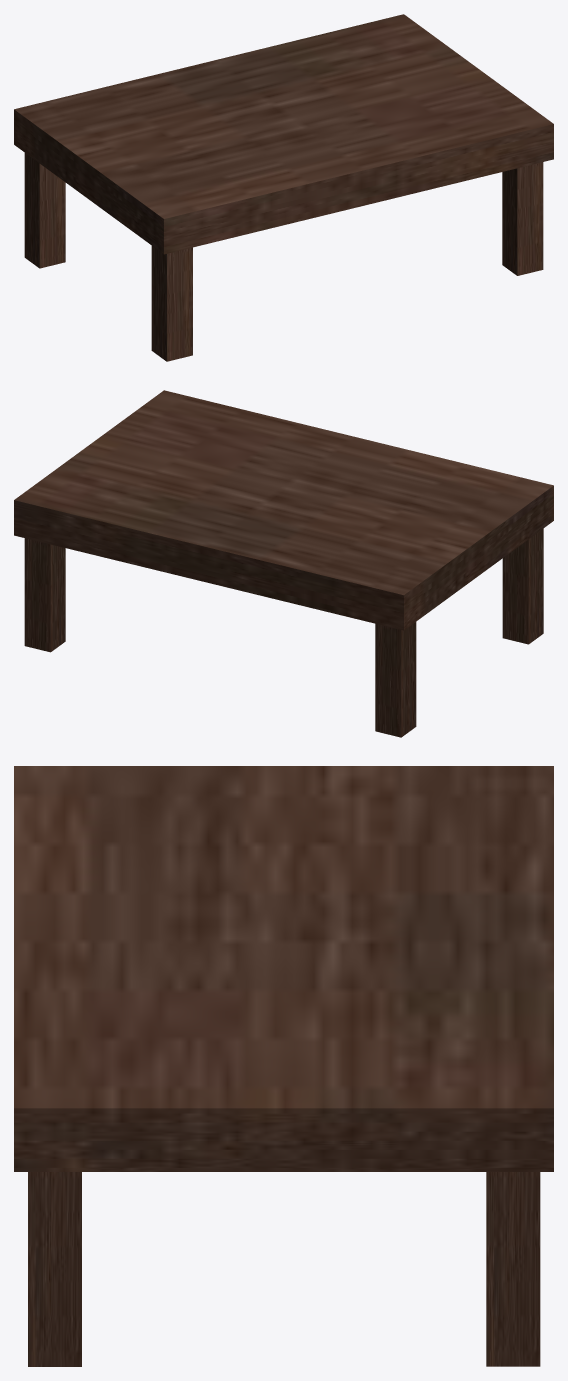
Rendered from mejaKecil_gelap.gltf.
The picture shows the model from 3 angles, top to bottom: view 1: azimuth 30°, elevation 25°; view 2: azimuth 150°, elevation 25°; view 3: azimuth 270°, elevation 25°; orthographic projection. The views are drawn at different scales.
Parts seen in each view (by area): view 1: Cube, Cube.003, Cube.001, Cube.004; view 2: Cube, Cube.004, Cube.002, Cube.003; view 3: Cube, Cube.002, Cube.001.
Boxes of the visible parts, box(x1,y1,x2,y2) form: Cube: box(14, 14, 553, 254); Cube.003: box(151, 246, 192, 361); Cube.001: box(502, 162, 543, 275); Cube.004: box(24, 153, 65, 268); Cube: box(14, 390, 553, 630); Cube.004: box(375, 622, 416, 737); Cube.002: box(24, 538, 65, 652); Cube.003: box(502, 528, 543, 644); Cube: box(14, 766, 553, 1171); Cube.002: box(486, 1172, 540, 1366); Cube.001: box(28, 1172, 81, 1366).
Bounding box in the file's own units: 6 × 2.16 × 4.
5 materials, 5 textured.
